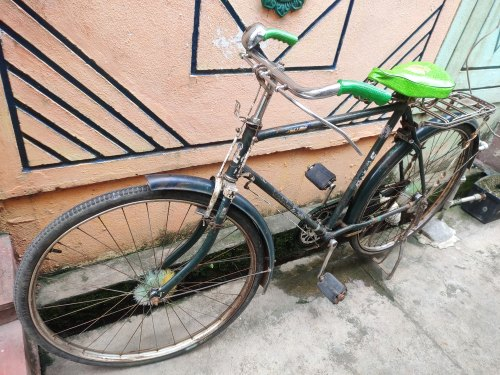cycle: (11, 18, 488, 363)
